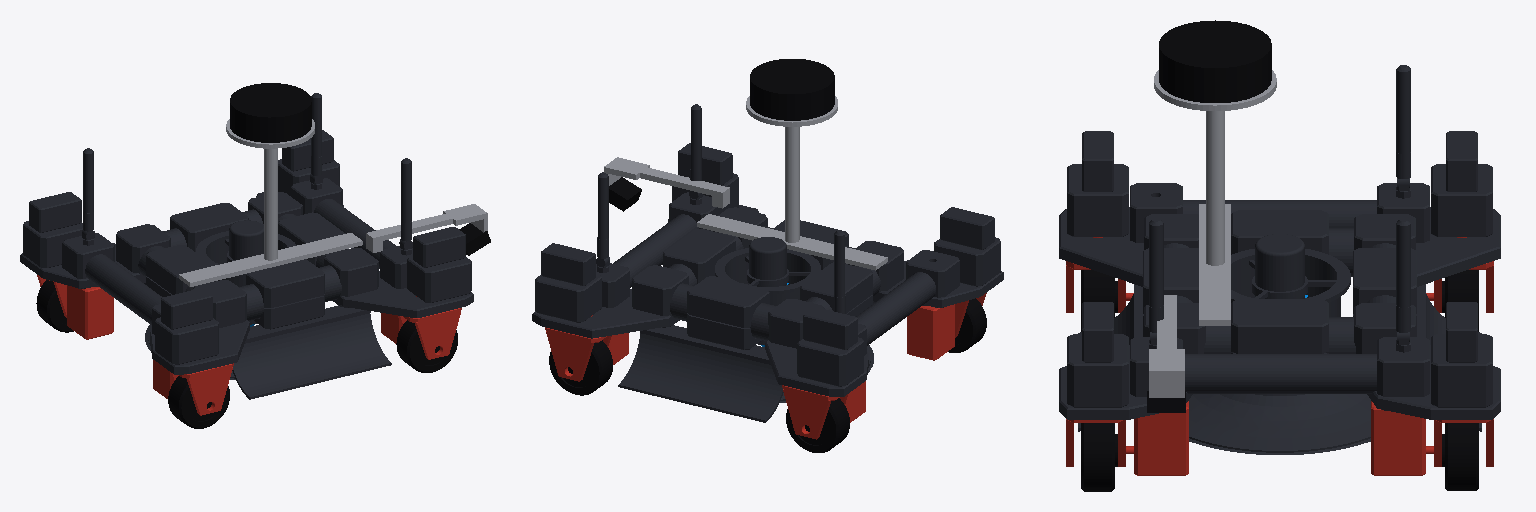
robot.urdf — wcr:
<?xml version="1.0"?>
<!-- Generated by tools/build_webots.py: the Webots WCR (webots/protos/Wcr.proto) for RViz -->
<robot name="wcr">
  <material name="mount"><color rgba="0.62 0.63 0.66 1"/></material>
  <material name="chassis"><color rgba="0.2 0.21 0.24 1"/></material>
  <material name="edf"><color rgba="0.05 0.55 0.88 1"/></material>
  <material name="pod"><color rgba="0.72 0.22 0.18 1"/></material>
  <material name="tire"><color rgba="0.08 0.08 0.09 1"/></material>
  <material name="sensor"><color rgba="0.08 0.08 0.09 1"/></material>
  <link name="base_link"></link>
  <link name="chassis_link">
    <visual><origin xyz="0 0 0" rpy="0 0 0"/><geometry><mesh filename="package://wcr_description/meshes/simple/chassis_0.obj" scale="0.001 0.001 0.001"/></geometry><material name="chassis"/></visual>
  </link>
  <joint name="chassis_joint" type="fixed"><parent link="base_link"/><child link="chassis_link"/><origin xyz="0.00000 0.00000 0.01036" rpy="0 0 0"/></joint>
  <link name="edf_link">
    <visual><origin xyz="0 0 0" rpy="0 0 0"/><geometry><mesh filename="package://wcr_description/meshes/simple/edf.obj" scale="0.001 0.001 0.001"/></geometry><material name="edf"/></visual>
  </link>
  <joint name="edf_joint" type="continuous"><parent link="chassis_link"/><child link="edf_link"/><origin xyz="0.00000 0.00000 0.00000" rpy="0 0 0"/><axis xyz="0 0 1"/></joint>
  <link name="imu_link"></link>
  <joint name="imu_joint" type="fixed"><parent link="chassis_link"/><child link="imu_link"/><origin xyz="0.06551 0.00000 0.09800" rpy="0 0 0"/></joint>
  <link name="front_camera_link"></link>
  <link name="front_camera_optical"></link>
  <joint name="front_camera_joint" type="fixed"><parent link="chassis_link"/><child link="front_camera_link"/><origin xyz="0.14885 0.00922 0.06659" rpy="0 0 0"/></joint>
  <joint name="front_camera_optical_joint" type="fixed"><parent link="front_camera_link"/><child link="front_camera_optical"/><origin xyz="0.00000 0.00000 0.00000" rpy="-1.5708 0 -1.5708"/></joint>
  <link name="lidar_link">
    <visual><origin xyz="0 0 -0.012" rpy="0 0 0"/><geometry><cylinder radius="0.035" length="0.024"/></geometry><material name="sensor"/></visual>
  </link>
  <joint name="lidar_joint" type="fixed"><parent link="base_link"/><child link="lidar_link"/><origin xyz="0.00000 -0.04000 0.25000" rpy="0 0 0"/></joint>
  <link name="wall_camera_link">
    <visual><origin xyz="0 0 0" rpy="0 0 0"/><geometry><box size="0.012 0.024 0.024"/></geometry><material name="sensor"/></visual>
  </link>
  <link name="wall_camera_optical"></link>
  <joint name="wall_camera_joint" type="fixed"><parent link="base_link"/><child link="wall_camera_link"/><origin xyz="0.18000 -0.07000 0.09000" rpy="0 1.22173 0"/></joint>
  <joint name="wall_camera_optical_joint" type="fixed"><parent link="wall_camera_link"/><child link="wall_camera_optical"/><origin xyz="0.00000 0.00000 0.00000" rpy="-1.5708 0 -1.5708"/></joint>
  <link name="sensor_mounts">
    <visual><origin xyz="0 0 0" rpy="0 0 0"/><geometry><mesh filename="package://wcr_description/meshes/simple/mounts.obj" scale="0.001 0.001 0.001"/></geometry><material name="mount"/></visual>
  </link>
  <joint name="sensor_mounts_joint" type="fixed"><parent link="base_link"/><child link="sensor_mounts"/><origin xyz="0.00000 0.00000 0.00000" rpy="0 0 0"/></joint>
  <link name="FL_steering_link">
    <visual><origin xyz="0 0 0" rpy="0 0 1.57080"/><geometry><mesh filename="package://wcr_description/meshes/simple/pod.obj" scale="0.001 0.001 0.001"/></geometry><material name="pod"/></visual>
  </link>
  <joint name="FL_steering_joint" type="revolute"><parent link="base_link"/><child link="FL_steering_link"/><origin xyz="0.11250 0.11250 0.06065" rpy="0 0 0"/><axis xyz="0 0 1"/><limit lower="-1.5708" upper="1.5708" effort="1.9" velocity="5.24"/></joint>
  <link name="FL_wheel_link">
    <visual><origin xyz="0 0 0" rpy="0.00000 1.57080 0.00000"/><geometry><mesh filename="package://wcr_description/meshes/simple/wheel.obj" scale="0.001 0.001 0.001"/></geometry><material name="tire"/></visual>
  </link>
  <joint name="FL_wheel_joint" type="continuous"><parent link="FL_steering_link"/><child link="FL_wheel_link"/><origin xyz="0.00000 0.00000 -0.03525" rpy="0 0 0"/><axis xyz="0 1 0"/></joint>
  <link name="BL_steering_link">
    <visual><origin xyz="0 0 0" rpy="0 0 1.57080"/><geometry><mesh filename="package://wcr_description/meshes/simple/pod.obj" scale="0.001 0.001 0.001"/></geometry><material name="pod"/></visual>
  </link>
  <joint name="BL_steering_joint" type="revolute"><parent link="base_link"/><child link="BL_steering_link"/><origin xyz="-0.11250 0.11250 0.06065" rpy="0 0 0"/><axis xyz="0 0 1"/><limit lower="-1.5708" upper="1.5708" effort="1.9" velocity="5.24"/></joint>
  <link name="BL_wheel_link">
    <visual><origin xyz="0 0 0" rpy="0.00000 1.57080 0.00000"/><geometry><mesh filename="package://wcr_description/meshes/simple/wheel.obj" scale="0.001 0.001 0.001"/></geometry><material name="tire"/></visual>
  </link>
  <joint name="BL_wheel_joint" type="continuous"><parent link="BL_steering_link"/><child link="BL_wheel_link"/><origin xyz="0.00000 0.00000 -0.03525" rpy="0 0 0"/><axis xyz="0 1 0"/></joint>
  <link name="BR_steering_link">
    <visual><origin xyz="0 0 0" rpy="0 0 -1.57080"/><geometry><mesh filename="package://wcr_description/meshes/simple/pod.obj" scale="0.001 0.001 0.001"/></geometry><material name="pod"/></visual>
  </link>
  <joint name="BR_steering_joint" type="revolute"><parent link="base_link"/><child link="BR_steering_link"/><origin xyz="-0.11250 -0.11250 0.06065" rpy="0 0 0"/><axis xyz="0 0 1"/><limit lower="-1.5708" upper="1.5708" effort="1.9" velocity="5.24"/></joint>
  <link name="BR_wheel_link">
    <visual><origin xyz="0 0 0" rpy="0.00000 0.00000 3.14159"/><geometry><mesh filename="package://wcr_description/meshes/simple/wheel.obj" scale="0.001 0.001 0.001"/></geometry><material name="tire"/></visual>
  </link>
  <joint name="BR_wheel_joint" type="continuous"><parent link="BR_steering_link"/><child link="BR_wheel_link"/><origin xyz="0.00000 0.00000 -0.03525" rpy="0 0 0"/><axis xyz="0 1 0"/></joint>
  <link name="FR_steering_link">
    <visual><origin xyz="0 0 0" rpy="0 0 -1.57080"/><geometry><mesh filename="package://wcr_description/meshes/simple/pod.obj" scale="0.001 0.001 0.001"/></geometry><material name="pod"/></visual>
  </link>
  <joint name="FR_steering_joint" type="revolute"><parent link="base_link"/><child link="FR_steering_link"/><origin xyz="0.11250 -0.11250 0.06065" rpy="0 0 0"/><axis xyz="0 0 1"/><limit lower="-1.5708" upper="1.5708" effort="1.9" velocity="5.24"/></joint>
  <link name="FR_wheel_link">
    <visual><origin xyz="0 0 0" rpy="0.00000 0.00000 3.14159"/><geometry><mesh filename="package://wcr_description/meshes/simple/wheel.obj" scale="0.001 0.001 0.001"/></geometry><material name="tire"/></visual>
  </link>
  <joint name="FR_wheel_joint" type="continuous"><parent link="FR_steering_link"/><child link="FR_wheel_link"/><origin xyz="0.00000 0.00000 -0.03525" rpy="0 0 0"/><axis xyz="0 1 0"/></joint>
</robot>

--- Render facts (derived) ---
The picture shows the robot from 3 angles, left to right: view 1: azimuth 30°, elevation 25°; view 2: azimuth 150°, elevation 25°; view 3: azimuth 270°, elevation 25°; orthographic projection.
Robot: wcr — 18 links, 17 joints (4 revolute, 5 continuous, 8 fixed); root link base_link; default pose: all joints at 0.
Links seen in each view (by area): view 1: chassis_link, sensor_mounts, lidar_link, BL_steering_link, BR_steering_link, FR_steering_link, BR_wheel_link, FR_wheel_link, BL_wheel_link, wall_camera_link; view 2: chassis_link, sensor_mounts, lidar_link, BR_steering_link, BL_steering_link, FL_steering_link, BL_wheel_link, FL_wheel_link, BR_wheel_link, wall_camera_link; view 3: chassis_link, sensor_mounts, lidar_link, FL_steering_link, FR_steering_link, FR_wheel_link, FL_wheel_link, BL_wheel_link, BR_wheel_link, BL_steering_link, BR_steering_link, wall_camera_link.
Link boxes in pixels (bbox=[...]): chassis_link: bbox=[20, 93, 473, 399]; sensor_mounts: bbox=[179, 119, 487, 286]; lidar_link: bbox=[230, 83, 311, 142]; BL_steering_link: bbox=[37, 275, 113, 339]; BR_steering_link: bbox=[153, 360, 233, 415]; FR_steering_link: bbox=[381, 296, 461, 359]; BR_wheel_link: bbox=[168, 376, 229, 428]; FR_wheel_link: bbox=[396, 320, 457, 372]; BL_wheel_link: bbox=[36, 280, 73, 332]; wall_camera_link: bbox=[459, 223, 490, 255]; chassis_link: bbox=[532, 104, 1003, 422]; sensor_mounts: bbox=[604, 96, 887, 270]; lidar_link: bbox=[750, 59, 834, 120]; BR_steering_link: bbox=[907, 293, 986, 360]; BL_steering_link: bbox=[782, 381, 865, 439]; FL_steering_link: bbox=[545, 315, 628, 381]; BL_wheel_link: bbox=[786, 398, 849, 452]; FL_wheel_link: bbox=[549, 340, 612, 395]; BR_wheel_link: bbox=[948, 298, 986, 352]; wall_camera_link: bbox=[609, 177, 641, 211]; chassis_link: bbox=[1059, 65, 1500, 454]; sensor_mounts: bbox=[1149, 70, 1276, 397]; lidar_link: bbox=[1159, 20, 1271, 102]; FL_steering_link: bbox=[1371, 401, 1493, 475]; FR_steering_link: bbox=[1066, 401, 1188, 475]; FR_wheel_link: bbox=[1081, 423, 1117, 491]; FL_wheel_link: bbox=[1442, 423, 1478, 490]; BL_wheel_link: bbox=[1442, 270, 1478, 331]; BR_wheel_link: bbox=[1081, 270, 1117, 331]; BL_steering_link: bbox=[1426, 237, 1493, 312]; BR_steering_link: bbox=[1066, 237, 1133, 312]; wall_camera_link: bbox=[1147, 391, 1185, 412].
Size in the robot's own frame: 0.3411 by 0.273 by 0.25 metres.
11 mesh visuals loaded from 5 distinct referenced files (5 OBJ).
